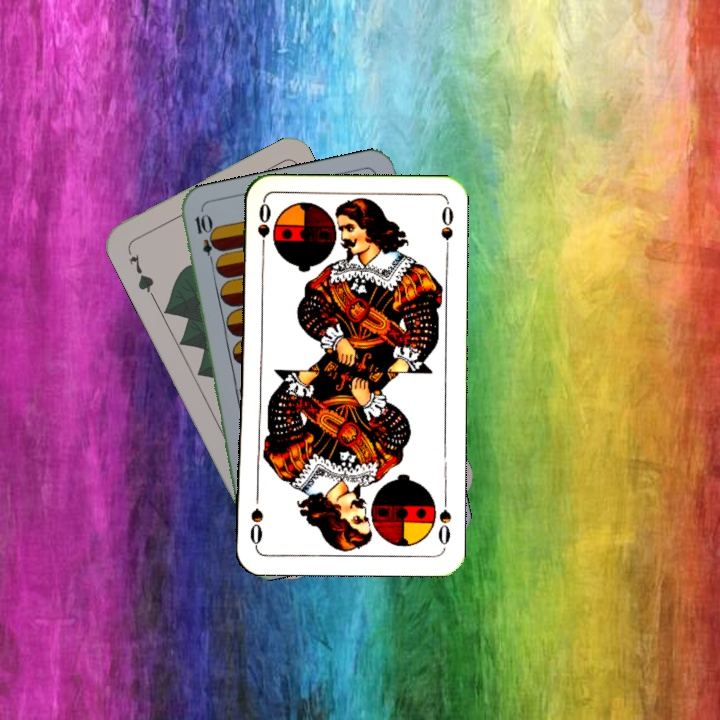E10: (191, 210, 219, 269)
G7: (123, 244, 157, 299)
SO: (253, 199, 273, 258), (434, 491, 454, 550)
